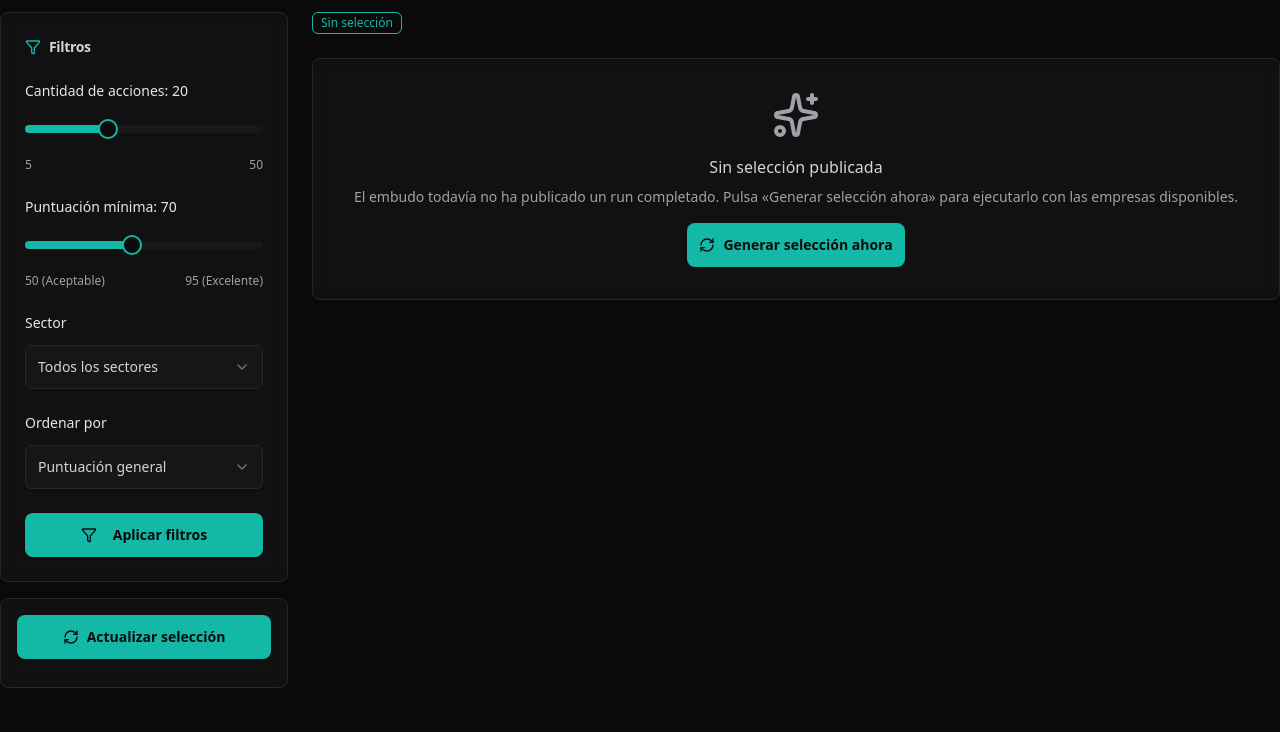
Test: EnhancedProPicksContent: estados vacíos › si generar el run devuelve error lo dice y no consulta picks
Click the button "Generar selección ahora" at point(796, 245), box [687, 223, 905, 267]
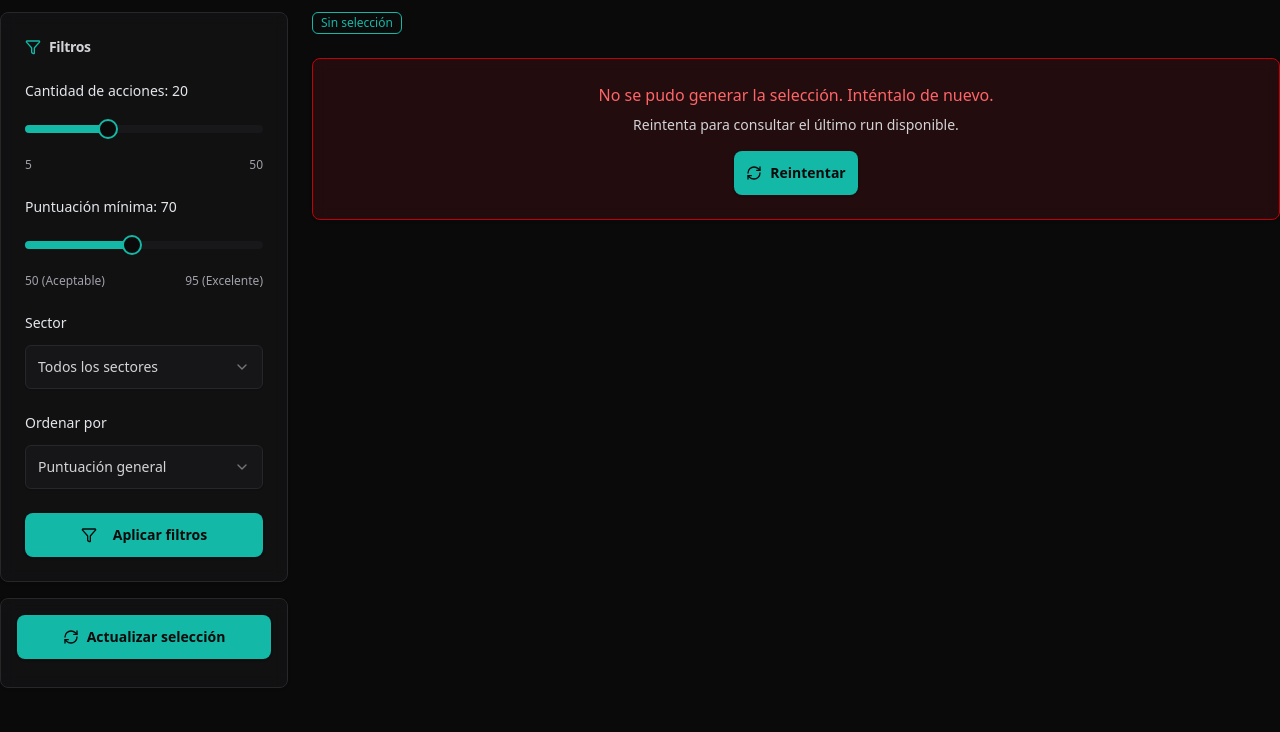
Expected: the text "No se pudo generar la selección. Inténtalo de nuevo." is shown, [598, 84, 994, 106]
Expected: the text "Reintenta para consultar el último run disponible." is shown, [633, 115, 959, 134]
